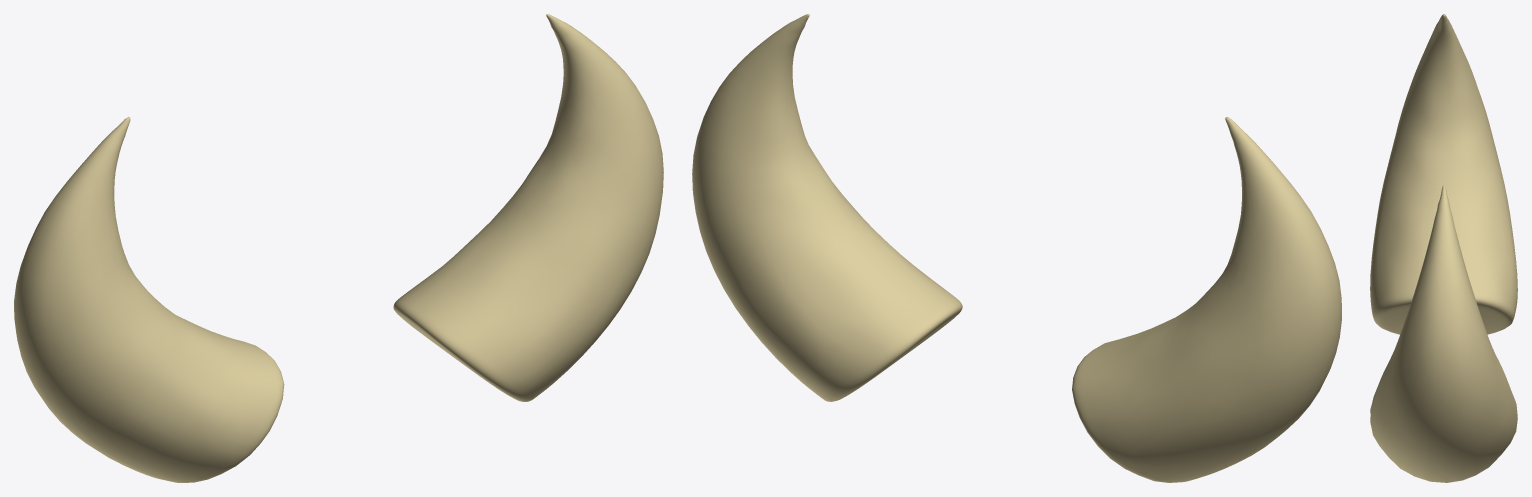
File: Horns.glb
The picture shows the model from 3 angles, left to right: view 1: azimuth 30°, elevation 25°; view 2: azimuth 150°, elevation 25°; view 3: azimuth 270°, elevation 25°; orthographic projection. The views are drawn at different scales.
Visible parts, largest first — view 1: Horns; view 2: Horns; view 3: Horns.
Part boxes in pixels (x1,y1,x2,y2): Horns: [14, 14, 663, 482]; Horns: [692, 14, 1341, 482]; Horns: [1370, 14, 1517, 482].
Bounding box in the file's own units: 0.5435 × 0.3006 × 0.1303.
Materials: 1 (1 with a texture image).
